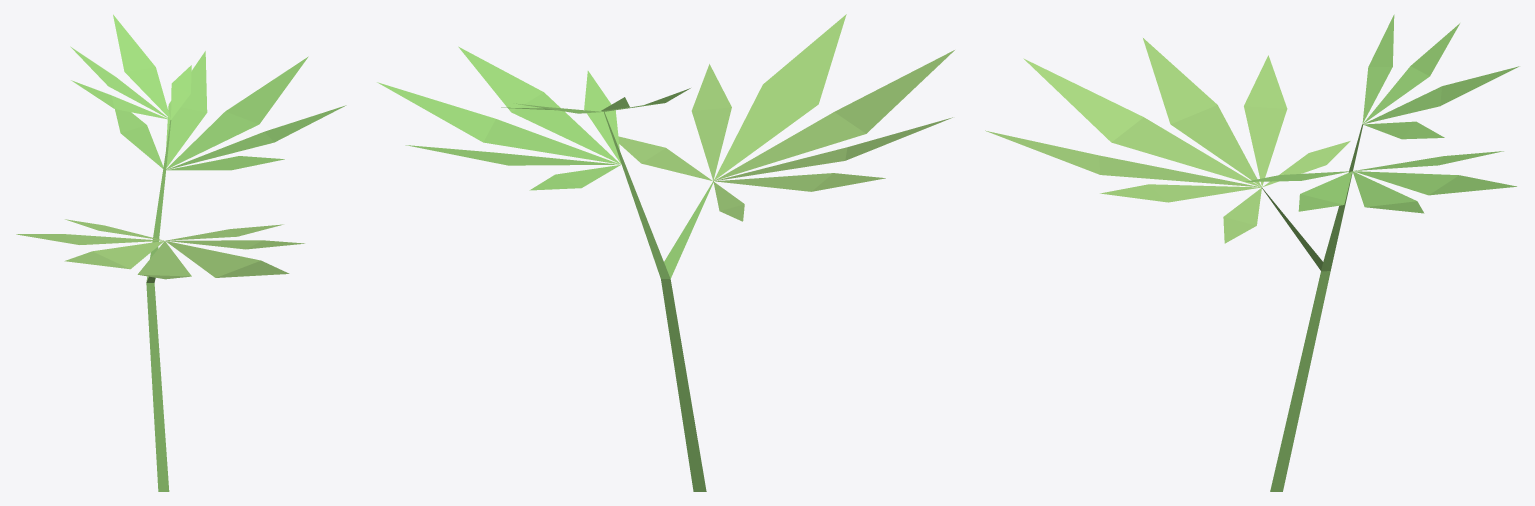
The model's file is Plant_i_OneS_01.fbx.
The picture shows the model from 3 angles, left to right: view 1: azimuth 30°, elevation 25°; view 2: azimuth 150°, elevation 25°; view 3: azimuth 270°, elevation 25°; orthographic projection. The views are drawn at different scales.
Visible parts, largest first — view 1: Plant_i_OneS_01; view 2: Plant_i_OneS_01; view 3: Plant_i_OneS_01.
Part boxes in pixels (box(x1,y1,x2,y2)): Plant_i_OneS_01: box(16, 14, 346, 491); Plant_i_OneS_01: box(377, 14, 954, 491); Plant_i_OneS_01: box(985, 14, 1519, 491).
Size of the model in its own units: 0.48 by 0.491 by 0.5207.
